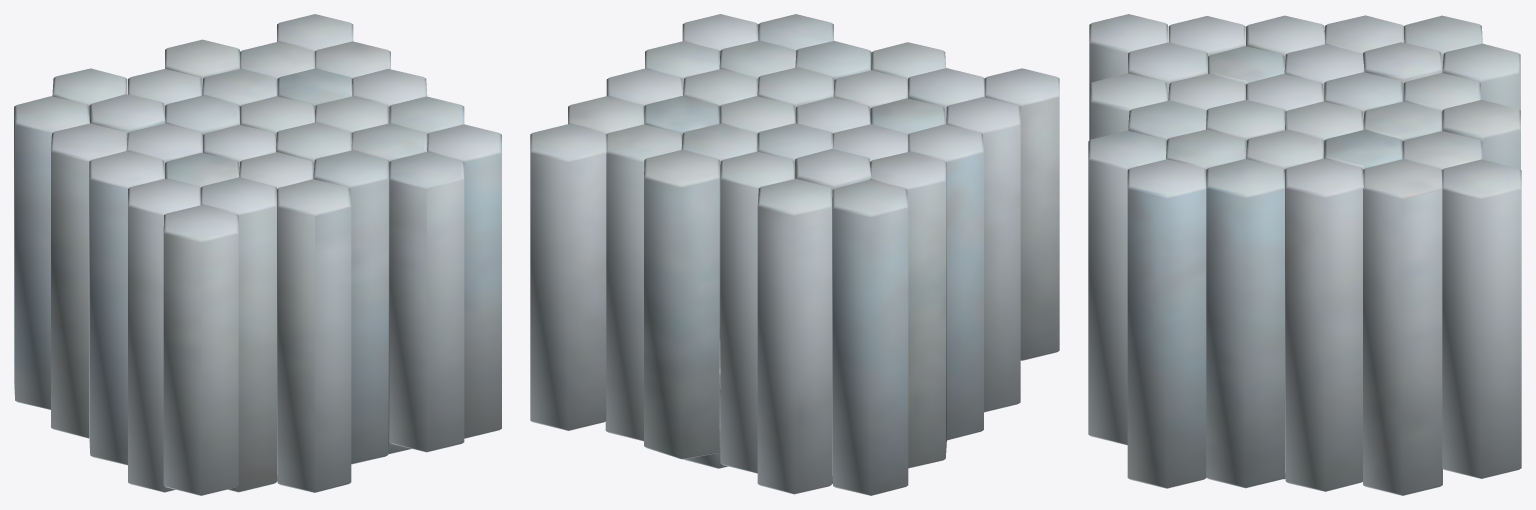
The model's file is P_RockHexic_Platform01.obj.
3 renders of one model, left to right at view 1: azimuth 30°, elevation 25°; view 2: azimuth 150°, elevation 25°; view 3: azimuth 270°, elevation 25°, orthographic. The views are drawn at different scales.
Bounding box in the file's own units: 18.52 × 15.98 × 18.53.
